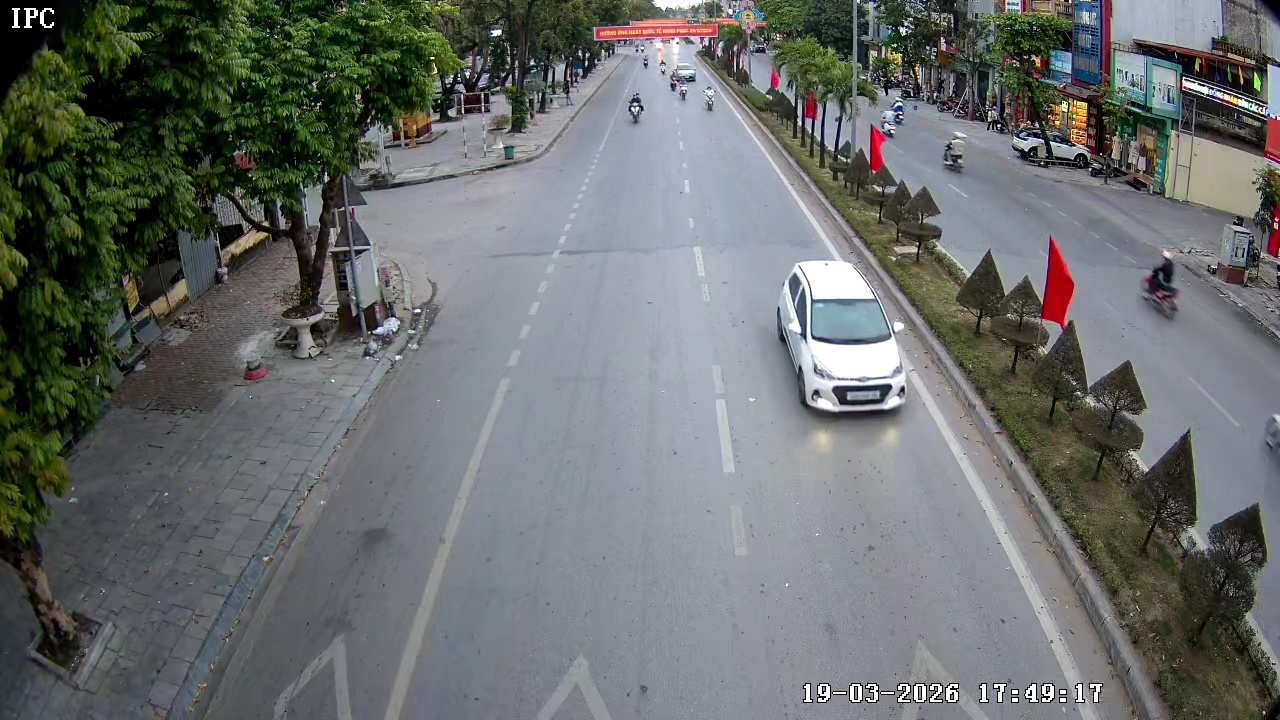car: (774, 259, 906, 417)
motorbike: (1140, 250, 1180, 319), (623, 88, 652, 127), (703, 86, 718, 112)
